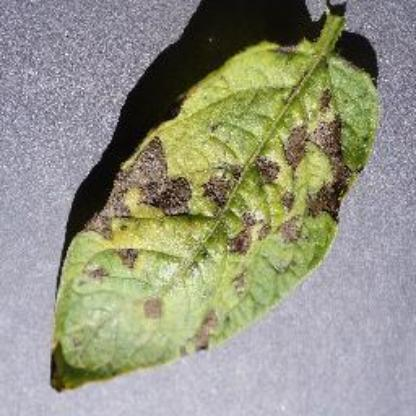Early-Blight: (46, 16, 376, 394)
